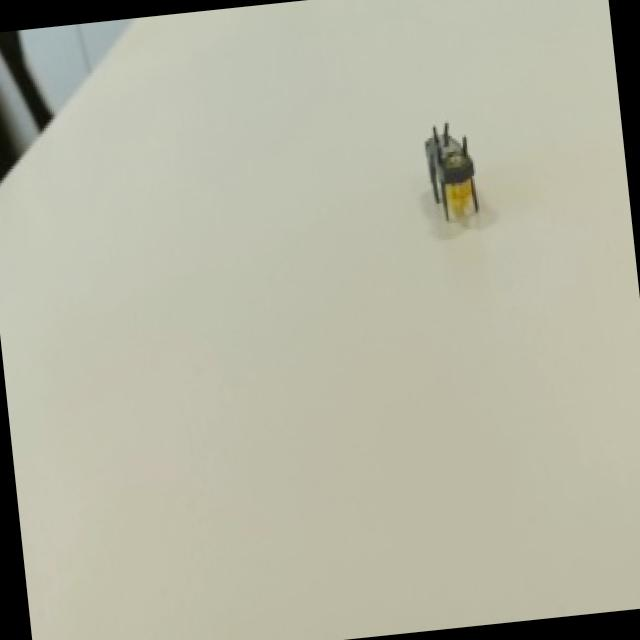6_NanoBug_GrisOscuro: (393, 76, 491, 255)
